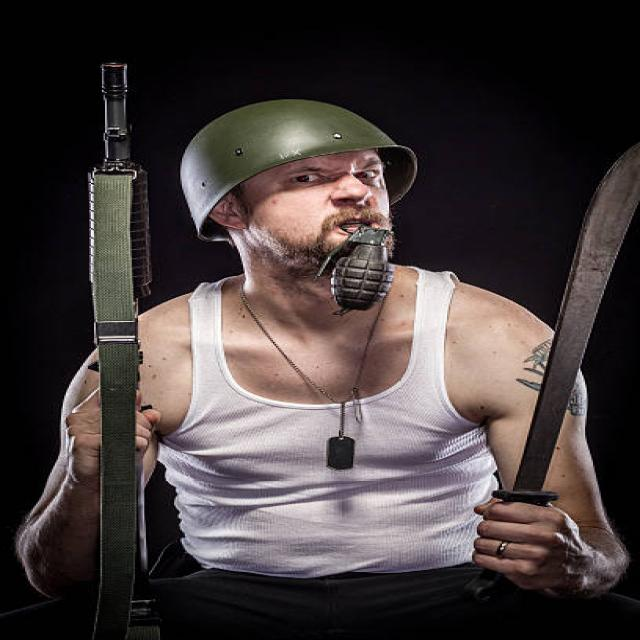grenade: (304, 220, 398, 315)
